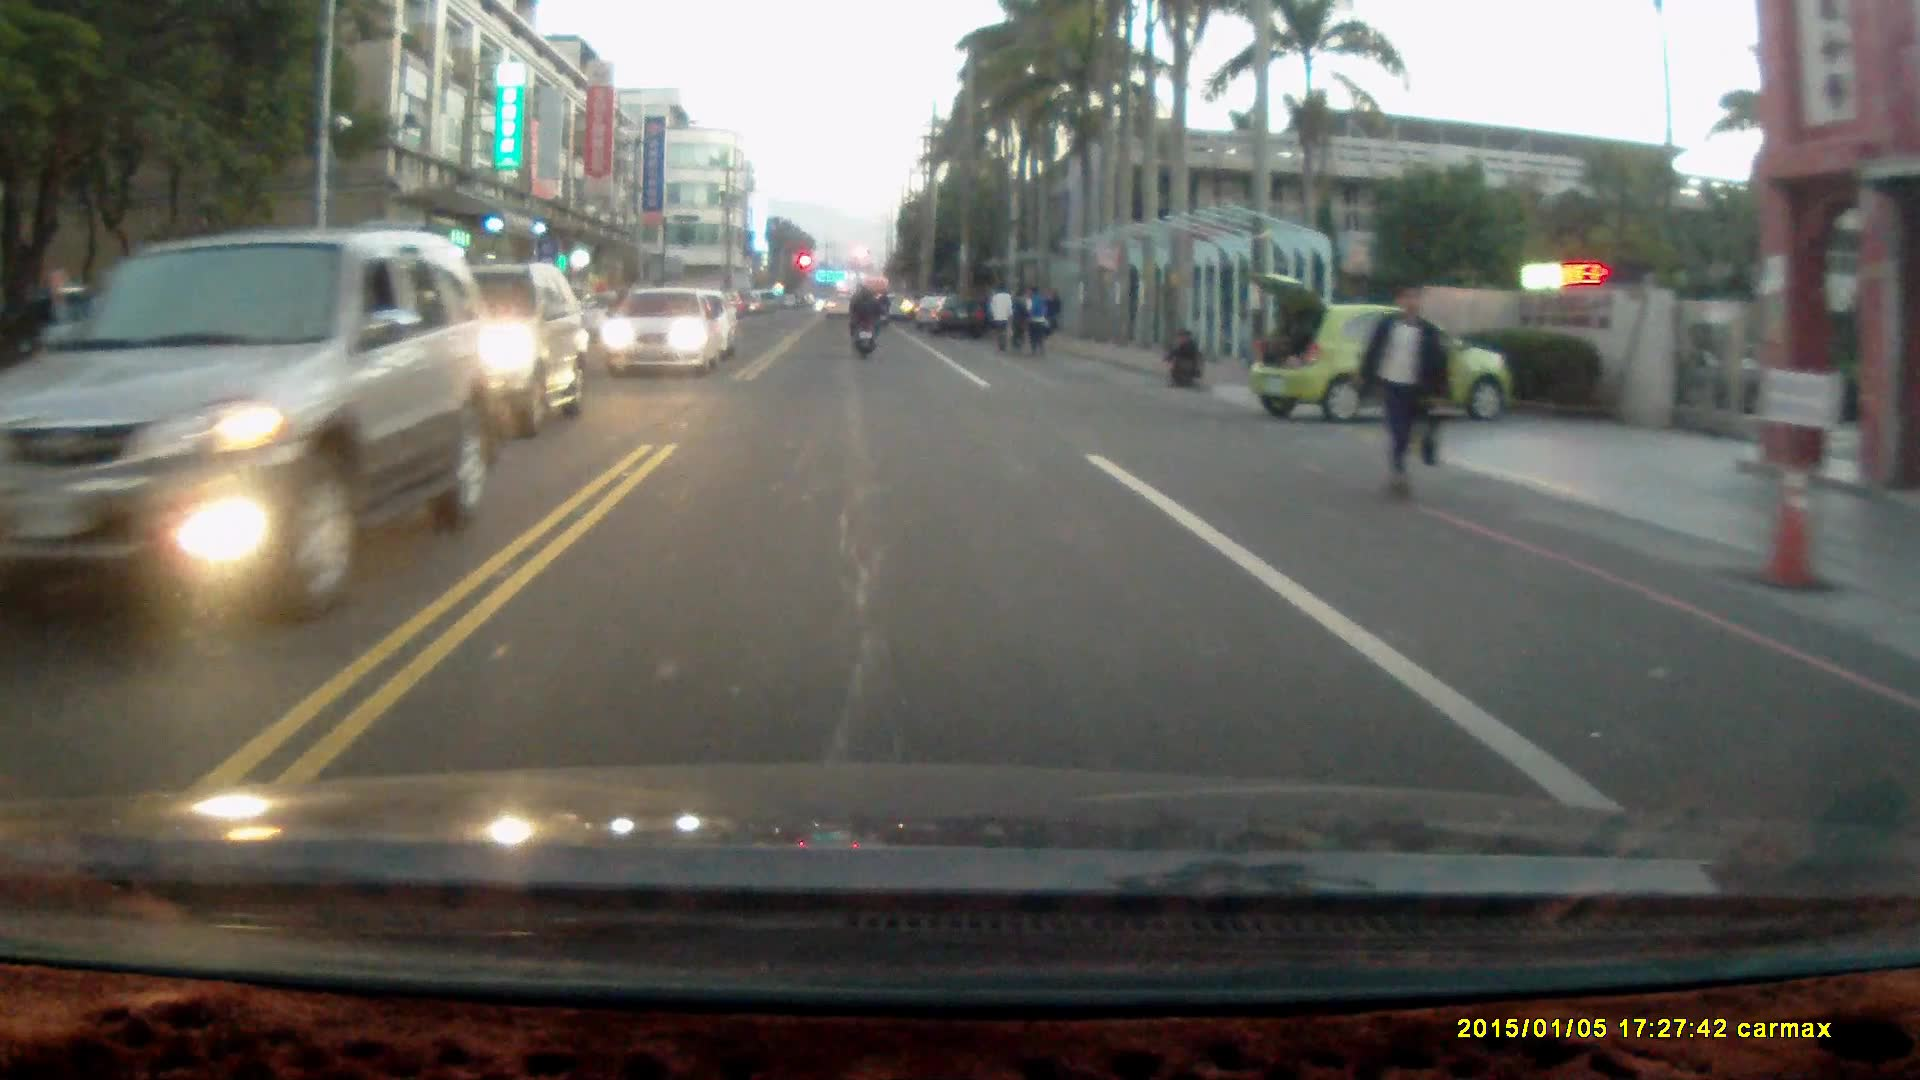pedestrian: (1355, 277, 1449, 509), (1163, 323, 1203, 387), (1022, 281, 1051, 358), (991, 282, 1016, 358), (1007, 285, 1031, 354)
rider: (844, 280, 881, 357)
vehicle: (6, 226, 491, 629), (358, 258, 593, 440), (1243, 267, 1511, 421), (605, 282, 719, 373), (933, 293, 991, 339)
